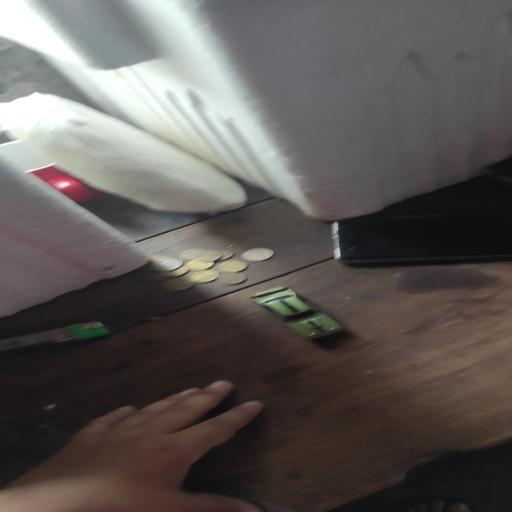Carrito: (252, 286, 344, 339)
